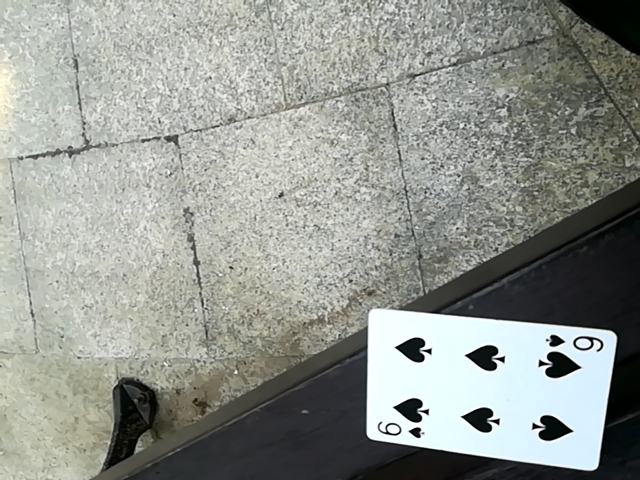ht 6: (355, 327, 618, 479)
